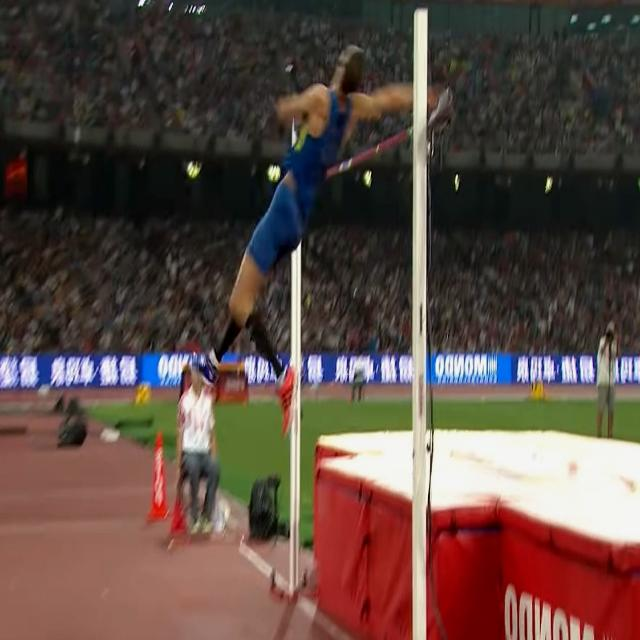jump: (191, 44, 434, 437)
